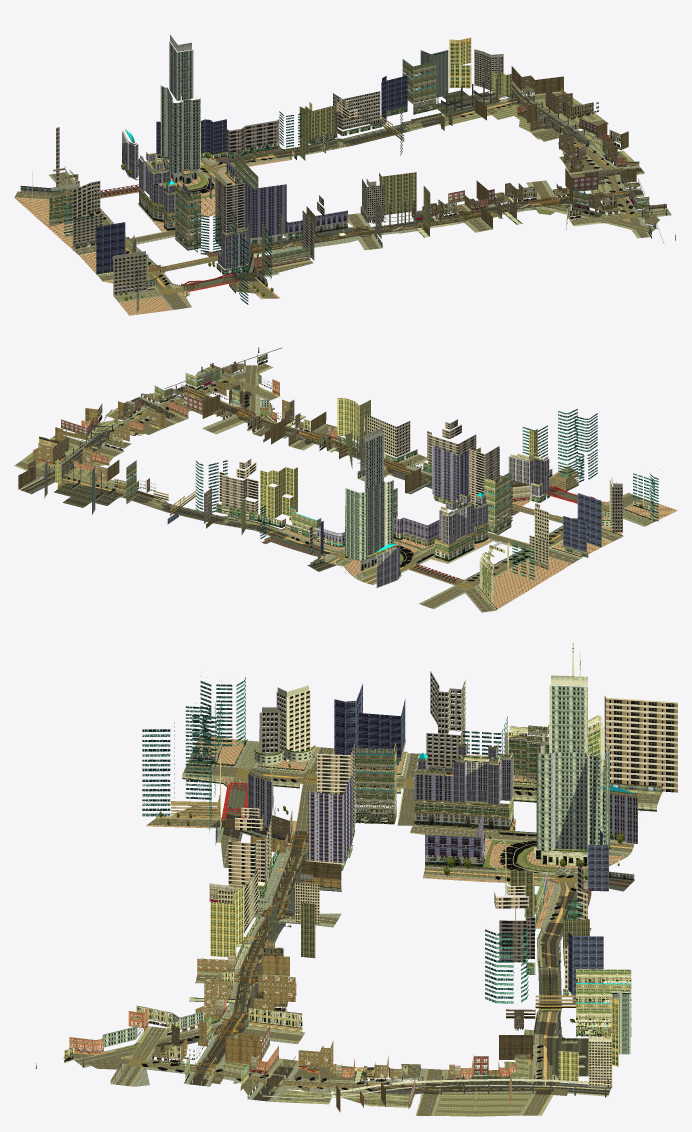
The model's file is track-US_C2_V2.glb.
3 renders of one model, top to bottom at view 1: azimuth 30°, elevation 25°; view 2: azimuth 150°, elevation 25°; view 3: azimuth 270°, elevation 25°, orthographic. The views are drawn at different scales.
Visible parts, largest first — view 1: US_C2_V2; view 2: US_C2_V2; view 3: US_C2_V2.
Boxes of the visible parts, <box> form: US_C2_V2: <box>14,35,675,315</box>; US_C2_V2: <box>14,347,677,612</box>; US_C2_V2: <box>35,642,677,1116</box>.
Bounding box in the file's own units: 1928 × 548 × 1422.
Materials: 89 (88 with a texture image).
